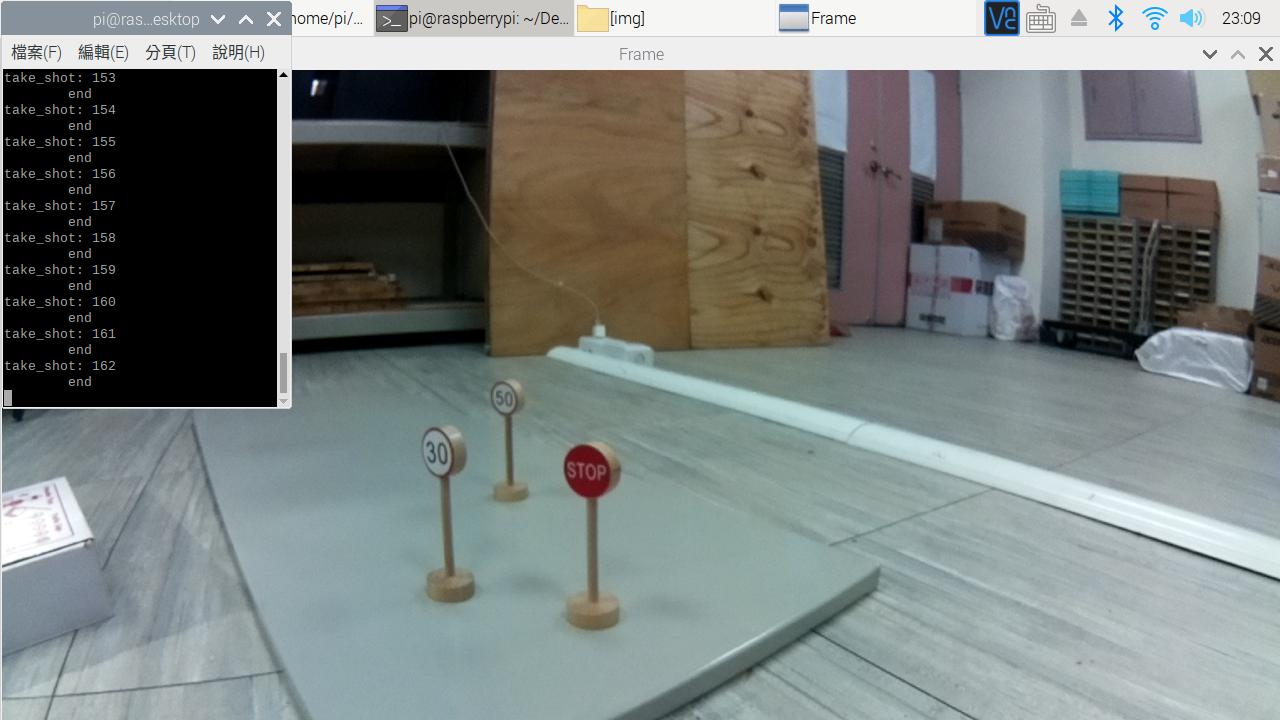Speed30: (418, 417, 474, 488)
Speed50: (479, 373, 537, 430)
Stop: (551, 435, 635, 511)
